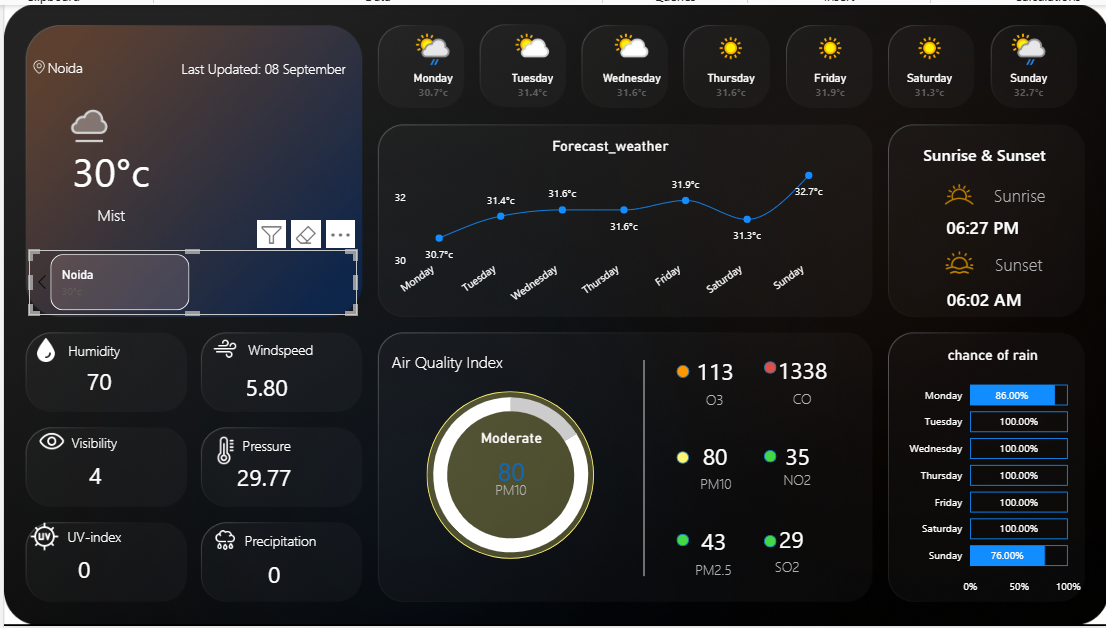

The page's visual inventory and layout, read from the dashboard file:
{"tool":"powerbi","page":{"name":"Page 1","canvas":[1280,720],"ordinal":0},"visuals":[{"type":"shape","box":[489.5,447.5,194.1,194.1],"z":0},{"type":"advancedSlicerVisual","fields":{"Values":["location.location.name"]},"box":[28.8,284,380.1,75.5],"z":1000},{"type":"shape","box":[28.7,116.2,190.5,151.4],"z":2000},{"type":"shape","box":[28.7,199.7,190.5,84.8],"z":3000},{"type":"shape","box":[50.9,14.4,189.2,116.2],"z":4000},{"type":"shape","box":[193.1,30,203.6,86.1],"z":5000},{"type":"image","box":[19.6,60,40.5,24.8],"z":6000},{"type":"cardVisual","fields":{"Data":["Min(current.current.condition.icon)"]},"box":[0,77,146.2,122.7],"z":7000},{"type":"shape","box":[33.9,464.6,142.3,83.5],"z":8000},{"type":"image","box":[28.7,484.2,52.2,43.1],"z":9000},{"type":"image","box":[28.7,379.8,39.2,40.5],"z":10000},{"type":"shape","box":[40.5,361.5,127.9,75.7],"z":11000},{"type":"image","box":[216.6,379.8,78.3,37.8],"z":12000},{"type":"shape","box":[255.8,360.2,127.9,75.7],"z":13000},{"type":"image","box":[229.7,494.6,52.2,41.8],"z":14000},{"type":"shape","box":[240.1,472.4,127.9,75.7],"z":15000},{"type":"image","box":[22.2,593.8,50.9,44.4],"z":16000},{"type":"shape","box":[40.5,578.1,127.9,75.7],"z":17000},{"type":"image","box":[229.7,600.3,52.2,37.8],"z":18000},{"type":"shape","box":[255.8,582.1,127.9,75.7],"z":19000},{"type":"card","fields":{"Values":["Sum(current.current.humidity)"]},"box":[27.7,376.5,166.1,120.4],"z":20000},{"type":"card","fields":{"Values":["Sum(current.current.wind_kph)"]},"box":[221.1,384.3,165.8,120.8],"z":21000},{"type":"card","fields":{"Values":["Sum(current.current.vis_km)"]},"box":[23.1,484.6,165.8,120.8],"z":22000},{"type":"card","fields":{"Values":["Sum(current.current.pressure_in)"]},"box":[218.5,488.5,165.8,120.8],"z":23000},{"type":"card","fields":{"Values":["Sum(current.current.precip_in)"]},"box":[230.1,599,165.8,120.8],"z":24000},{"type":"card","fields":{"Values":["Sum(current.current.uv)"]},"box":[10.3,593.9,165.8,120.8],"z":25000},{"type":"advancedSlicerVisual","fields":{"Values":["forecast_day.day_name"]},"box":[438.8,20.8,809.7,109.3],"z":26000},{"type":"lineChart","title":"Forecast_weather","fields":{"Y":["Sum(forecast_day.forecast.forecastday.day.avgtemp_c)"],"Category":["forecast_day.day_name"]},"box":[438.8,153.6,527.3,206.2],"z":27000},{"type":"shape","box":[1040.8,132.9,189.6,78.9],"z":28000},{"type":"shape","box":[1063,293.4,145.3,91.3],"z":29000},{"type":"shape","box":[1038.1,211.8,191,91.3],"z":30000},{"type":"shape","box":[1122.5,253.3,106.6,91.3],"z":31000},{"type":"shape","box":[1100.3,191,152.2,58.1],"z":32000},{"type":"image","box":[1078.2,192.4,58.1,54],"z":33000},{"type":"image","box":[1086.5,275.4,41.5,45.7],"z":34000},{"type":"hundredPercentStackedBarChart","title":"chance of rain","fields":{"Category":["forecast_day.day_name"],"Y":["Sum(forecast_day.forecast.forecastday.day.daily_chance_of_rain)","forecast_day.left_val_rain"]},"box":[1038.4,395.4,214.3,296.9],"z":35000},{"type":"card","fields":{"Values":["Sum(current.current.air_quality.co)"]},"box":[842.9,383.8,165.1,81.1],"z":36000},{"type":"shape","box":[848.7,425.8,152.1,57.9],"z":37000},{"type":"card","fields":{"Values":["Sum(current.current.air_quality.no2)"]},"box":[837.1,483.7,165.1,81.1],"z":38000},{"type":"card","fields":{"Values":["Sum(current.current.air_quality.o3)"]},"box":[741.5,385.2,165.1,81.1],"z":39000},{"type":"card","fields":{"Values":["Sum(current.current.air_quality.pm10)"]},"box":[741.5,483.7,165.1,81.1],"z":40000},{"type":"card","fields":{"Values":["Sum(current.current.air_quality.pm2_5)"]},"box":[740.1,582.2,165.1,81.1],"z":41000},{"type":"card","fields":{"Values":["Sum(current.current.air_quality.so2)"]},"box":[829.9,579.3,165.1,81.1],"z":42000},{"type":"shape","box":[842.9,519.9,152.1,57.9],"z":43000},{"type":"shape","box":[747.3,427.2,152.1,57.9],"z":44000},{"type":"shape","box":[748.8,524.3,152.1,57.9],"z":45000},{"type":"shape","box":[745.9,624.2,152.1,57.9],"z":46000},{"type":"shape","box":[831.3,621.3,152.1,57.9],"z":47000},{"type":"shape","box":[779.2,417.1,15,15],"z":48000},{"type":"shape","box":[779.2,612.6,14.5,14.5],"z":49000},{"type":"shape","box":[779.2,517,14.5,14.5],"z":50000},{"type":"shape","box":[880.6,515.6,14.5,14.5],"z":51000},{"type":"shape","box":[880.6,412.8,14.5,14.5],"z":52000},{"type":"shape","box":[880.6,614.1,14.5,14.5],"z":53000},{"type":"shape","box":[418.6,370.8,189.7,84],"z":54000},{"type":"shape","box":[663.3,411.3,156.4,250.6],"z":55000},{"type":"card","fields":{"Values":["Sum(current.current.air_quality.pm10)"]},"box":[505.5,491,165.1,81.1],"z":56000},{"type":"donutChart","fields":{"Y":["Sum(current.current.air_quality.pm10)","measure.left_val_PM10"]},"box":[469.2,427.2,236.1,234.6],"z":57000},{"type":"shape","box":[511.2,531.5,152.1,57.9],"z":58000}]}

Visuals, with their boxes on the page's 1280x720 design canvas (x1, y1, x2, y2). These are canvas units, not pixel positions in the 1106x628 screenshot, which may show the page scaled, cropped or inside an application window:
shape: 490, 448, 684, 642
advancedSlicerVisual - location.location.name: 29, 284, 409, 360
shape: 29, 116, 219, 268
shape: 29, 200, 219, 284
shape: 51, 14, 240, 131
shape: 193, 30, 397, 116
image: 20, 60, 60, 85
cardVisual - Min(current.current.condition.icon): 0, 77, 146, 200
shape: 34, 465, 176, 548
image: 29, 484, 81, 527
image: 29, 380, 68, 420
shape: 40, 362, 168, 437
image: 217, 380, 295, 418
shape: 256, 360, 384, 436
image: 230, 495, 282, 536
shape: 240, 472, 368, 548
image: 22, 594, 73, 638
shape: 40, 578, 168, 654
image: 230, 600, 282, 638
shape: 256, 582, 384, 658
card - Sum(current.current.humidity): 28, 376, 194, 497
card - Sum(current.current.wind_kph): 221, 384, 387, 505
card - Sum(current.current.vis_km): 23, 485, 189, 605
card - Sum(current.current.pressure_in): 218, 488, 384, 609
card - Sum(current.current.precip_in): 230, 599, 396, 720
card - Sum(current.current.uv): 10, 594, 176, 715
advancedSlicerVisual - forecast_day.day_name: 439, 21, 1248, 130
"Forecast_weather" lineChart: 439, 154, 966, 360
shape: 1041, 133, 1230, 212
shape: 1063, 293, 1208, 385
shape: 1038, 212, 1229, 303
shape: 1122, 253, 1229, 345
shape: 1100, 191, 1252, 249
image: 1078, 192, 1136, 246
image: 1086, 275, 1128, 321
"chance of rain" hundredPercentStackedBarChart: 1038, 395, 1253, 692
card - Sum(current.current.air_quality.co): 843, 384, 1008, 465
shape: 849, 426, 1001, 484
card - Sum(current.current.air_quality.no2): 837, 484, 1002, 565
card - Sum(current.current.air_quality.o3): 742, 385, 907, 466
card - Sum(current.current.air_quality.pm10): 742, 484, 907, 565
card - Sum(current.current.air_quality.pm2_5): 740, 582, 905, 663
card - Sum(current.current.air_quality.so2): 830, 579, 995, 660
shape: 843, 520, 995, 578
shape: 747, 427, 899, 485
shape: 749, 524, 901, 582
shape: 746, 624, 898, 682
shape: 831, 621, 983, 679
shape: 779, 417, 794, 432
shape: 779, 613, 794, 627
shape: 779, 517, 794, 532
shape: 881, 516, 895, 530
shape: 881, 413, 895, 427
shape: 881, 614, 895, 629
shape: 419, 371, 608, 455
shape: 663, 411, 820, 662
card - Sum(current.current.air_quality.pm10): 506, 491, 671, 572
donutChart - Sum(current.current.air_quality.pm10) x measure.left_val_PM10: 469, 427, 705, 662
shape: 511, 532, 663, 589
